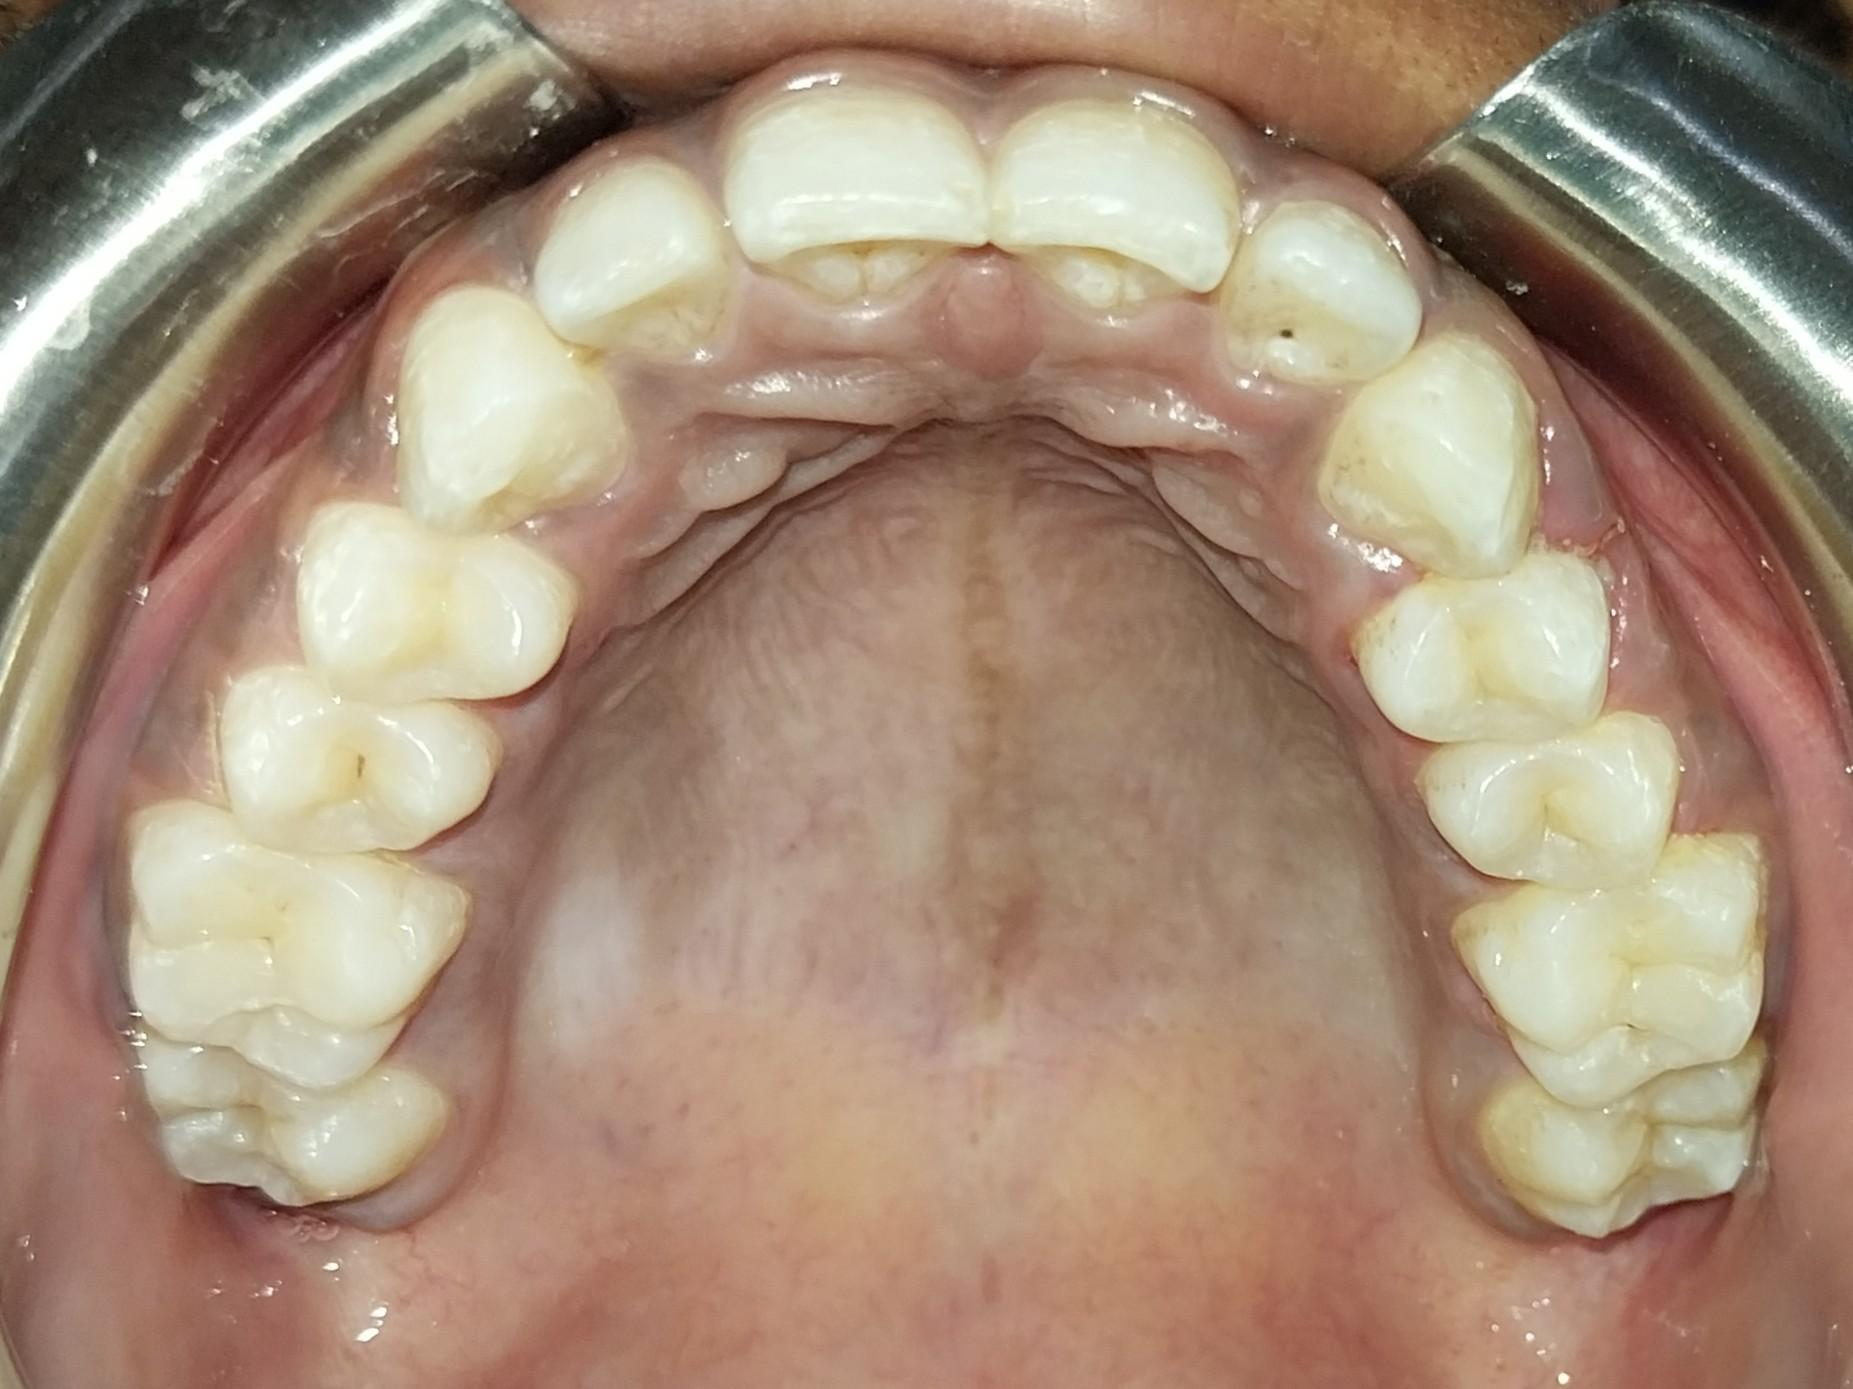D: (1214, 189, 1428, 392)
